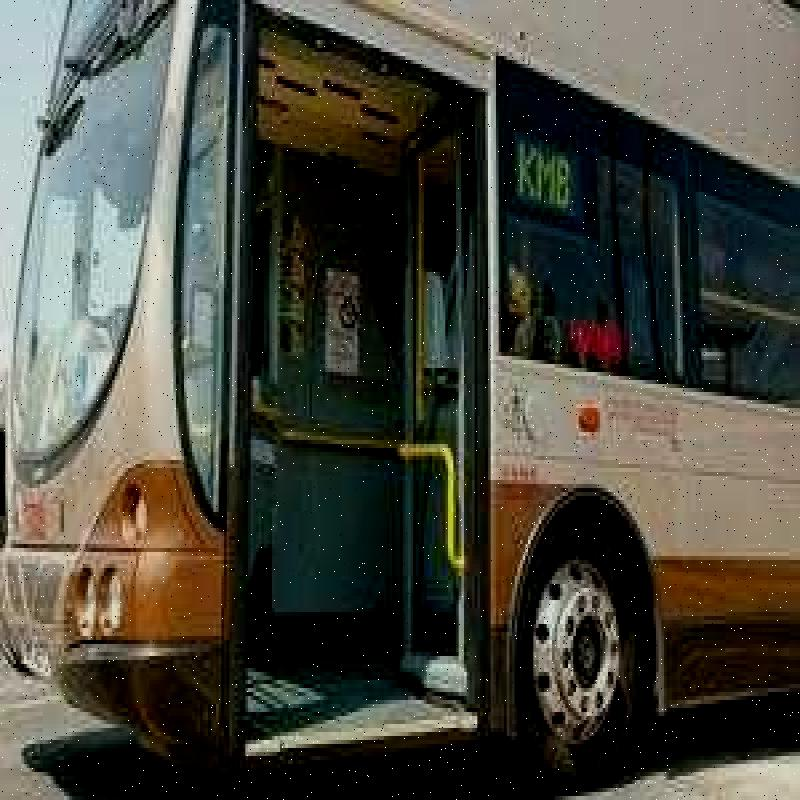bus: (19, 9, 744, 759)
